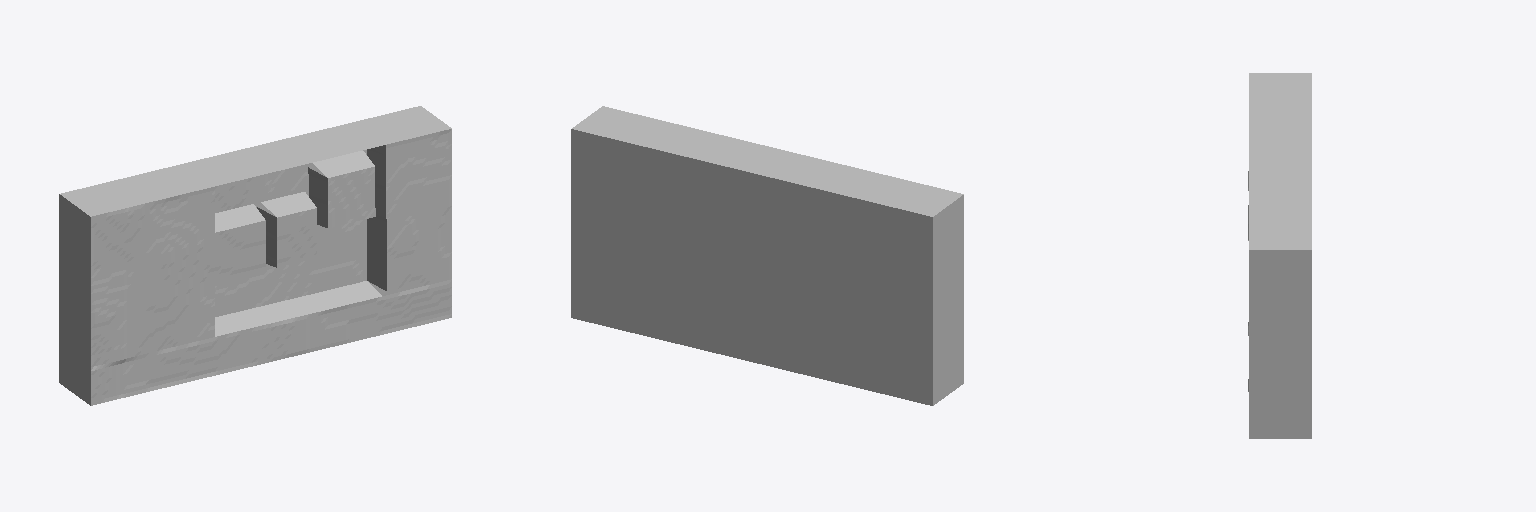
Rendered from rectangular_prism_bumps_2_8.obj.
The picture shows the model from 3 angles: view 1: azimuth 30°, elevation 25°; view 2: azimuth 150°, elevation 25°; view 3: azimuth 270°, elevation 25°; orthographic projection.
Size of the model in its own units: 10 by 5 by 1.52.